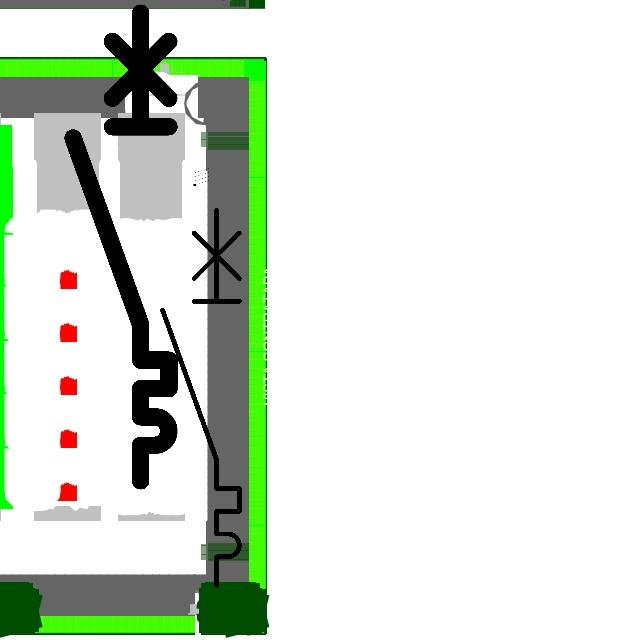interruptor_termomagnetico: (61, 1, 181, 493), (153, 200, 249, 594)
